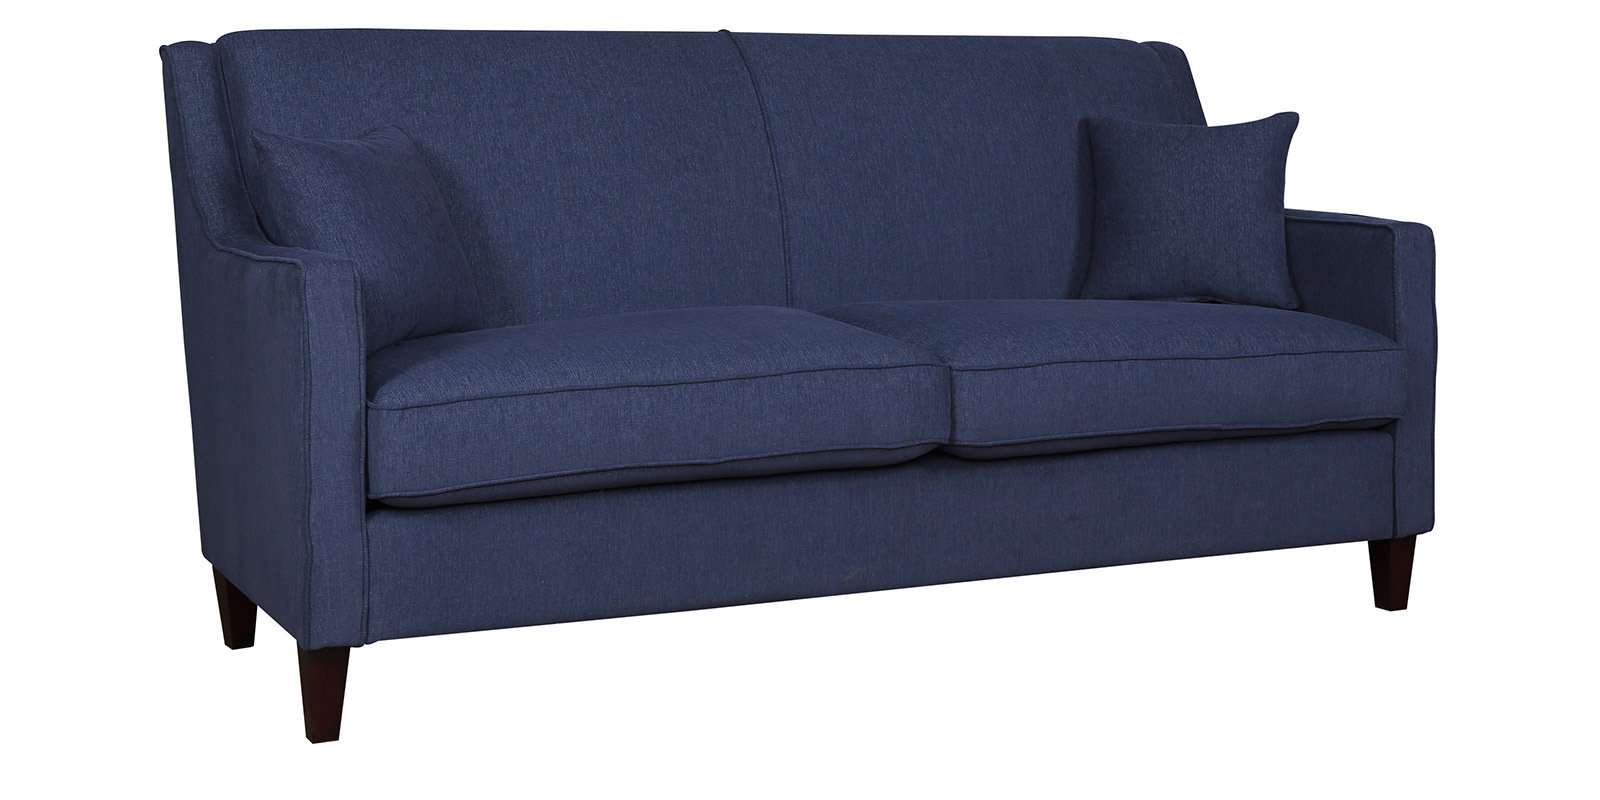Oscar Three Seater Sofa in Navy Blue Colour by CasaCraft: (157, 26, 1438, 742)
